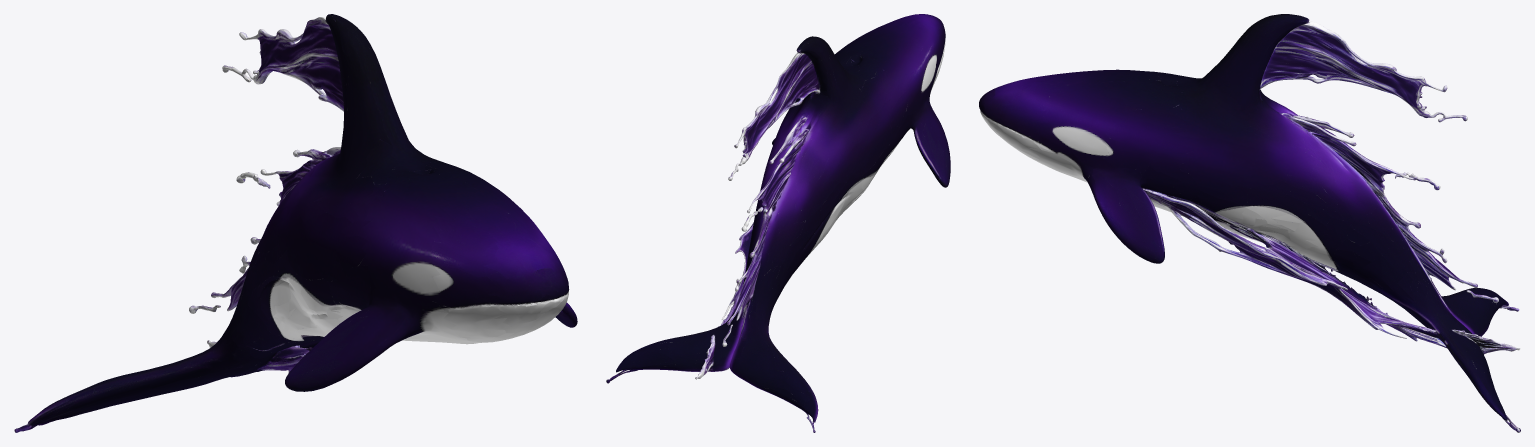
The model's file is praimi-3d-v1.glb.
3 views of the same model, side by side, from view 1: azimuth 30°, elevation 25°; view 2: azimuth 150°, elevation 25°; view 3: azimuth 270°, elevation 25° (orthographic). The views are drawn at different scales.
Bounding box in the file's own units: 1.01 × 1.38 × 1.9.
Materials: 1 (1 with a texture image).
